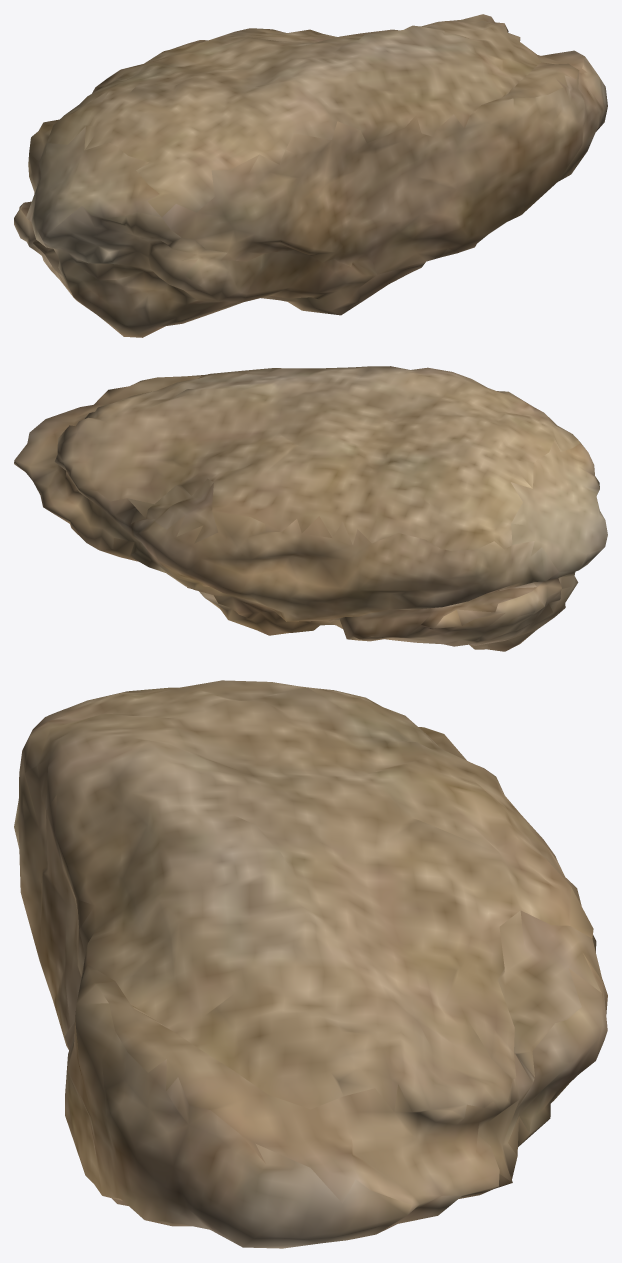
File: ph_boulder_4.glb
3 renders of one model, top to bottom at view 1: azimuth 30°, elevation 25°; view 2: azimuth 150°, elevation 25°; view 3: azimuth 270°, elevation 25°, orthographic. The views are drawn at different scales.
Parts seen in each view (by area): view 1: ph_boulder_4_lod1; view 2: ph_boulder_4_lod1; view 3: ph_boulder_4_lod1.
Boxes of the visible parts, x1,y1,x2,y2 form: ph_boulder_4_lod1: [14, 14, 607, 337]; ph_boulder_4_lod1: [14, 366, 607, 651]; ph_boulder_4_lod1: [14, 680, 607, 1248].
Size of the model in its own units: 1.36 by 0.5329 by 0.7442.
Materials: 1 (1 with a texture image).
